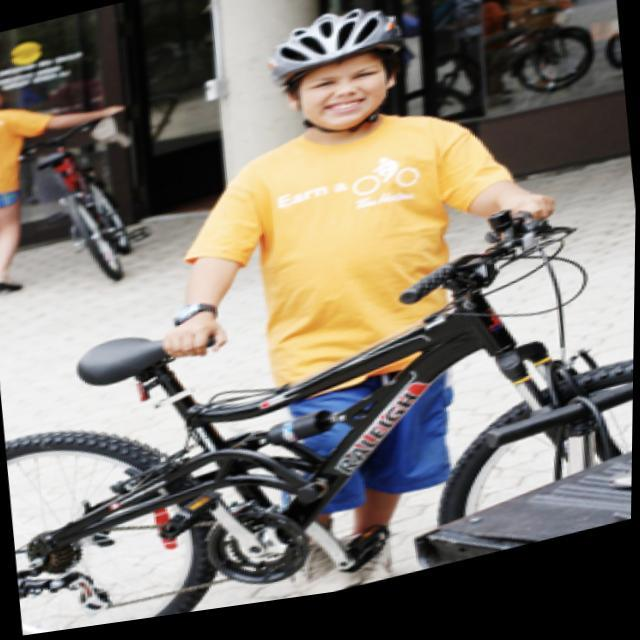Helmet: (266, 6, 406, 135)
